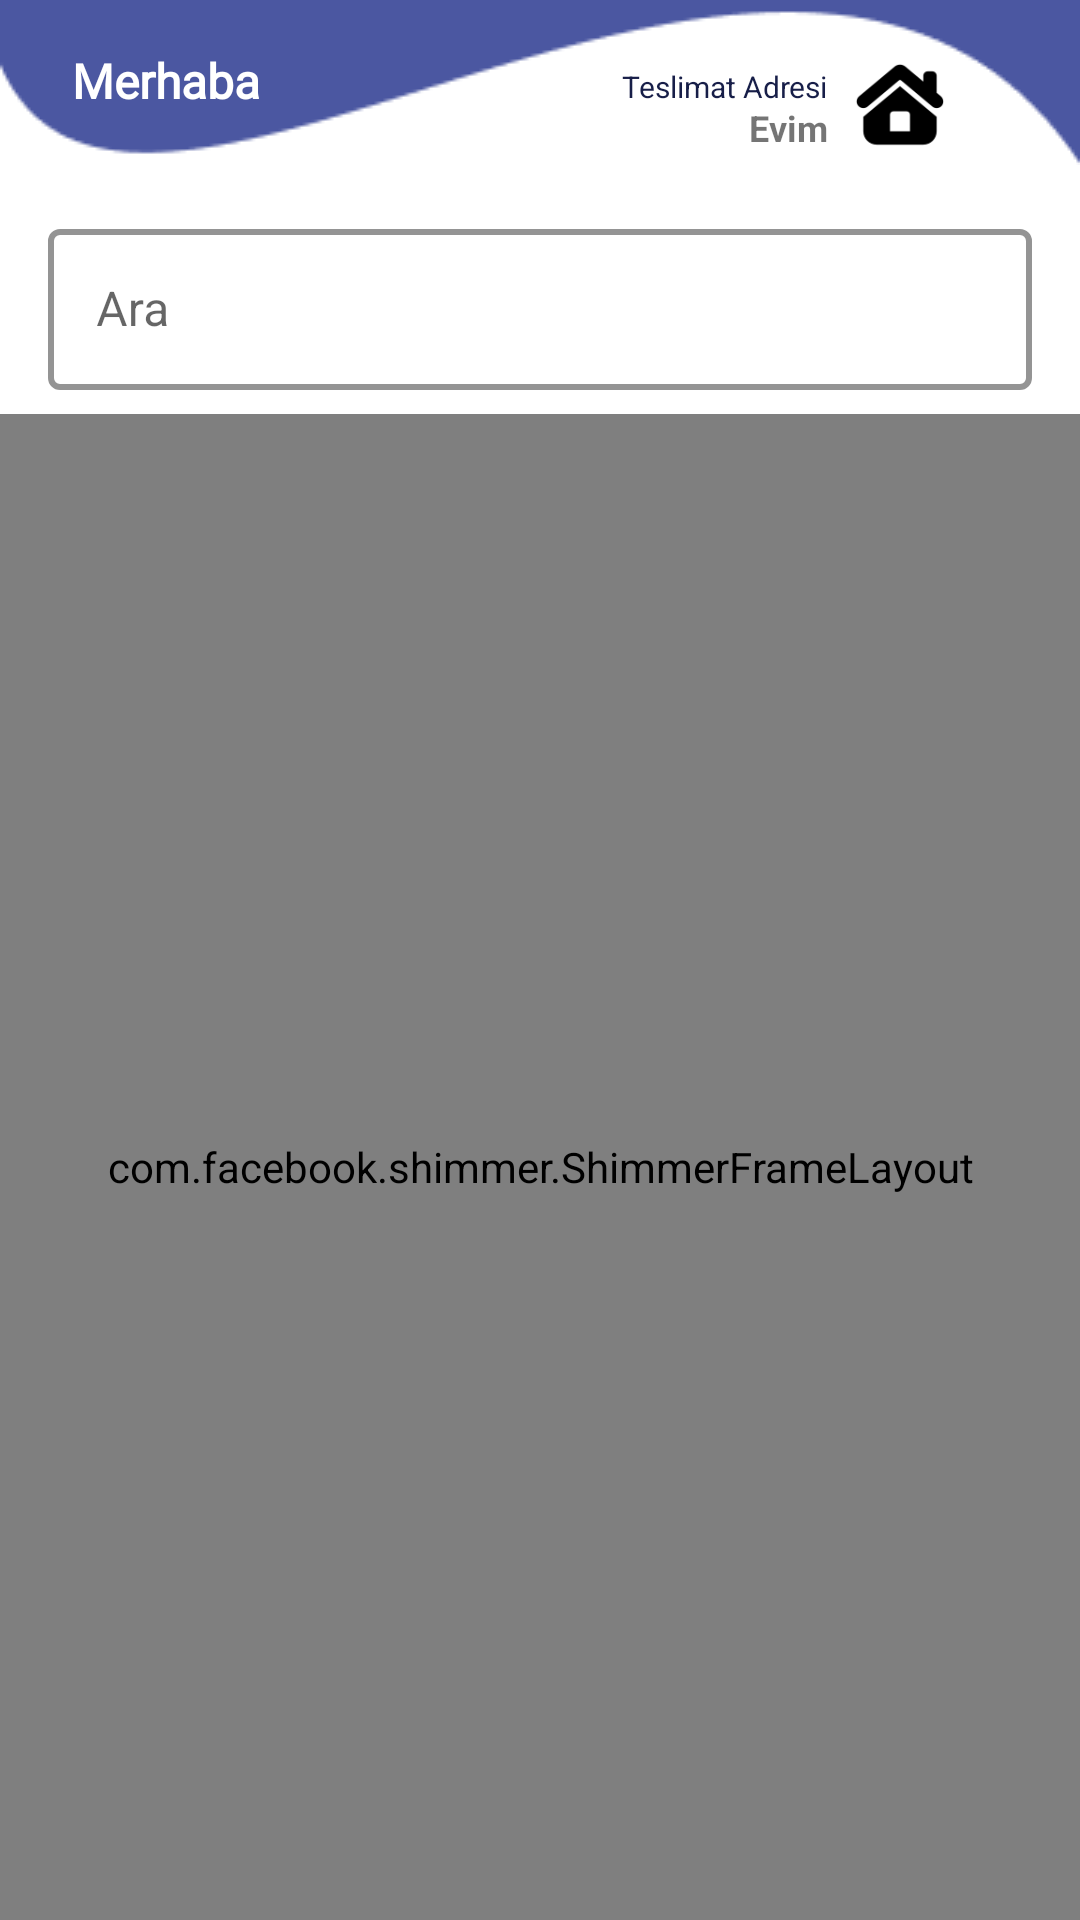

Icons on this 1080×1920 Android screen, each with its box as Rect(x1, y1, x2, y2):
delivery place: Rect(856, 64, 944, 145)
